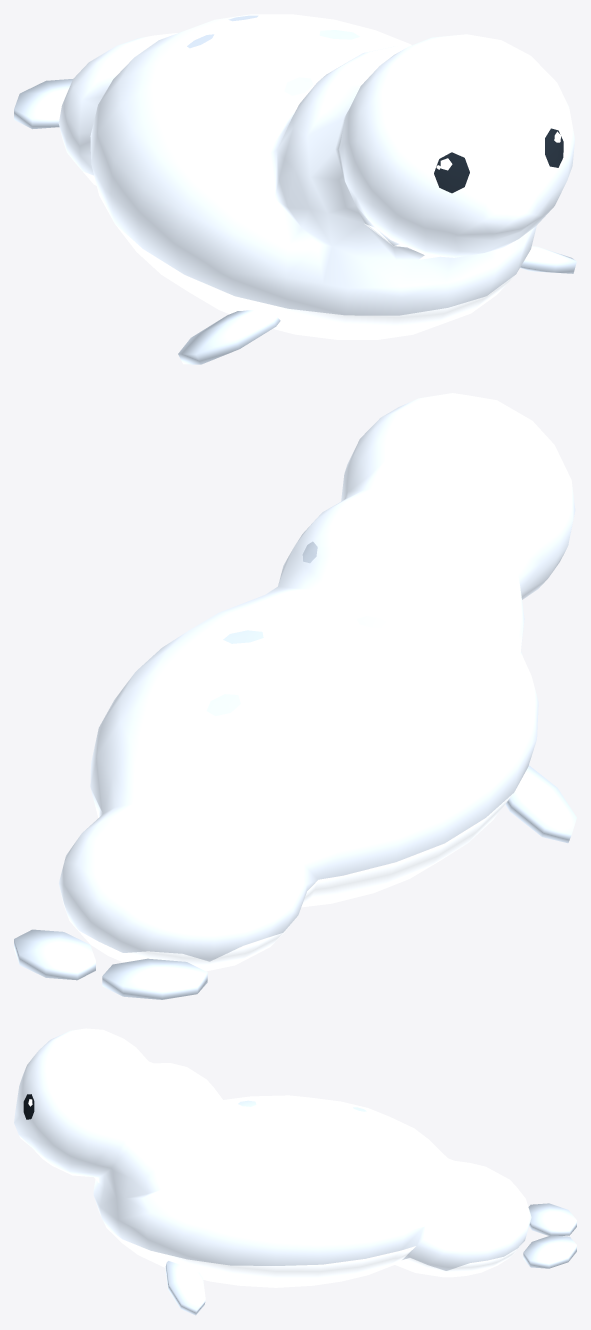
Rendered from seal.glb.
The picture shows the model from 3 angles, top to bottom: view 1: azimuth 30°, elevation 25°; view 2: azimuth 150°, elevation 25°; view 3: azimuth 270°, elevation 25°; orthographic projection. The views are drawn at different scales.
Visible parts, largest first — view 1: seal; view 2: seal; view 3: seal.
Boxes of the visible parts, left/top/right/bottom form: seal: left=14, top=14, right=576, bottom=364; seal: left=14, top=393, right=576, bottom=999; seal: left=14, top=1028, right=576, bottom=1315.
Bounding box in the file's own units: 1.57 × 1.36 × 2.97.
